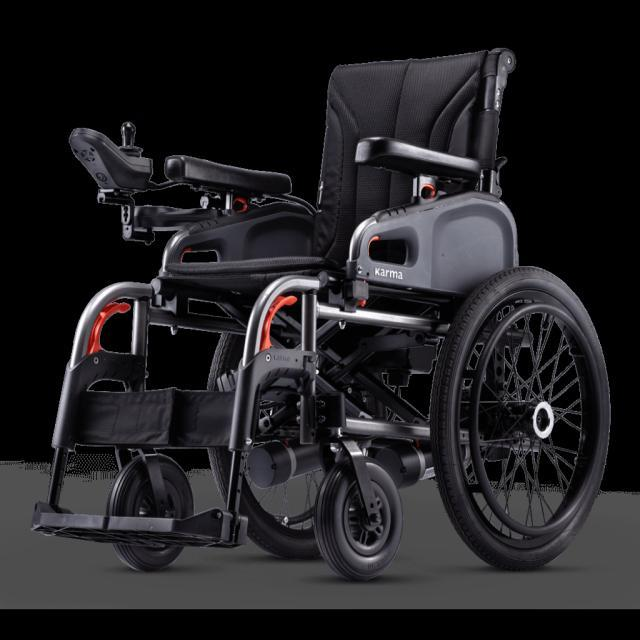wheelchair: (18, 34, 606, 598)
